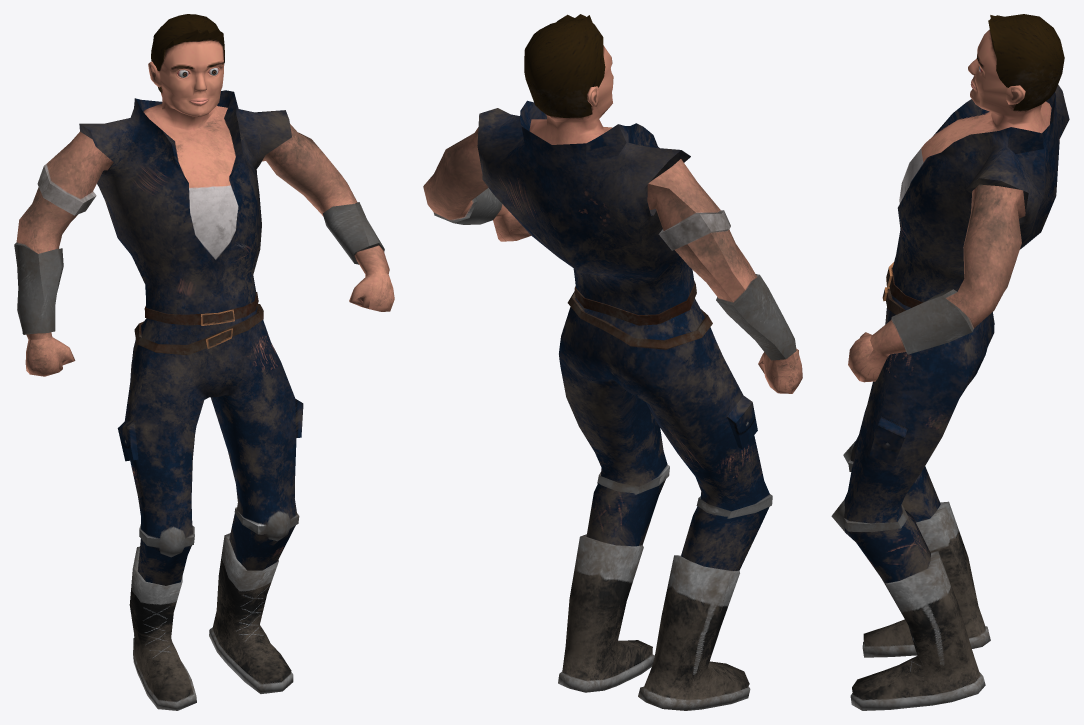
The model's file is Anim_recibirdanyo_jugador.0014.obj.
3 renders of one model, left to right at view 1: azimuth 30°, elevation 25°; view 2: azimuth 150°, elevation 25°; view 3: azimuth 270°, elevation 25°, orthographic. The views are drawn at different scales.
Visible parts, largest first — view 1: polySurface1; view 2: polySurface1; view 3: polySurface1.
Boxes of the visible parts, box(x1,y1,x2,y2) form: polySurface1: box(14, 14, 394, 710); polySurface1: box(423, 14, 802, 710); polySurface1: box(831, 14, 1069, 710).
Size of the model in its own units: 5.17 by 9.23 by 2.93.
